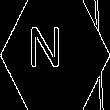N_S: (38, 30, 72, 80)
